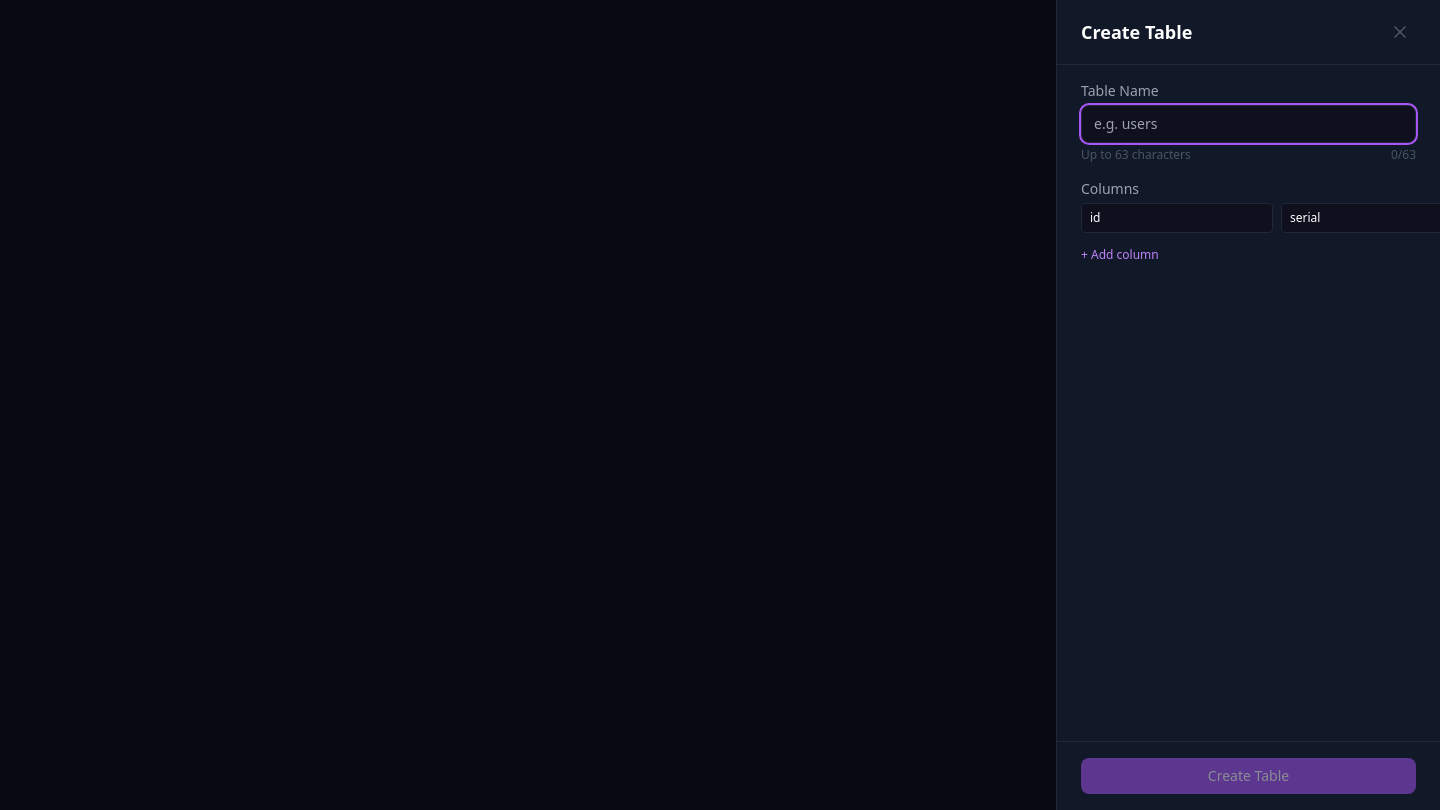
Test: CreateTablePanel columns › the server's reason is shown in the panel, not a status code
Type "notes" into the field with test id "table-name-input" at (1248, 124), box 1081,105 -> 1416,143
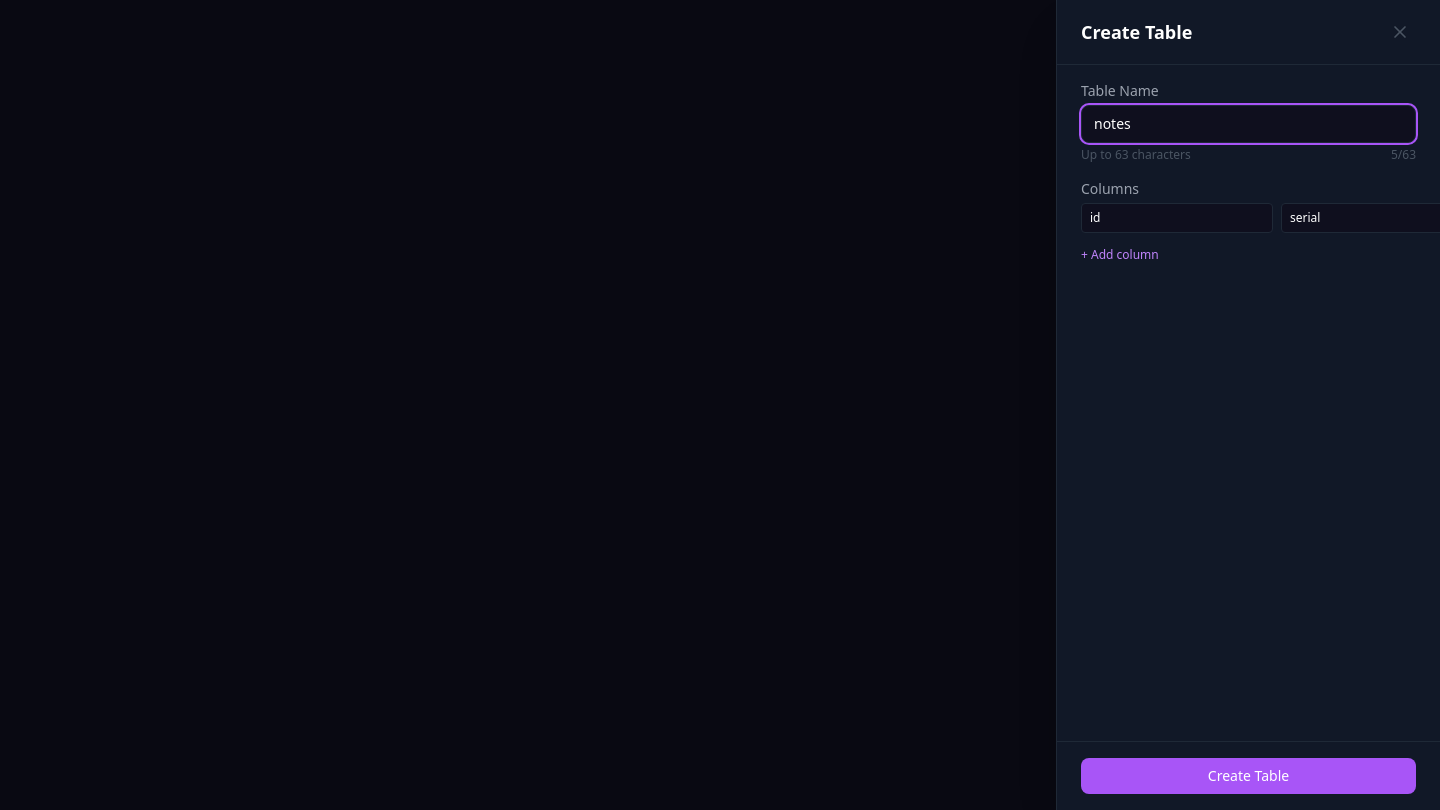
Click the button with test id "create-table-submit" at (1248, 776), box 1081,758 -> 1416,794
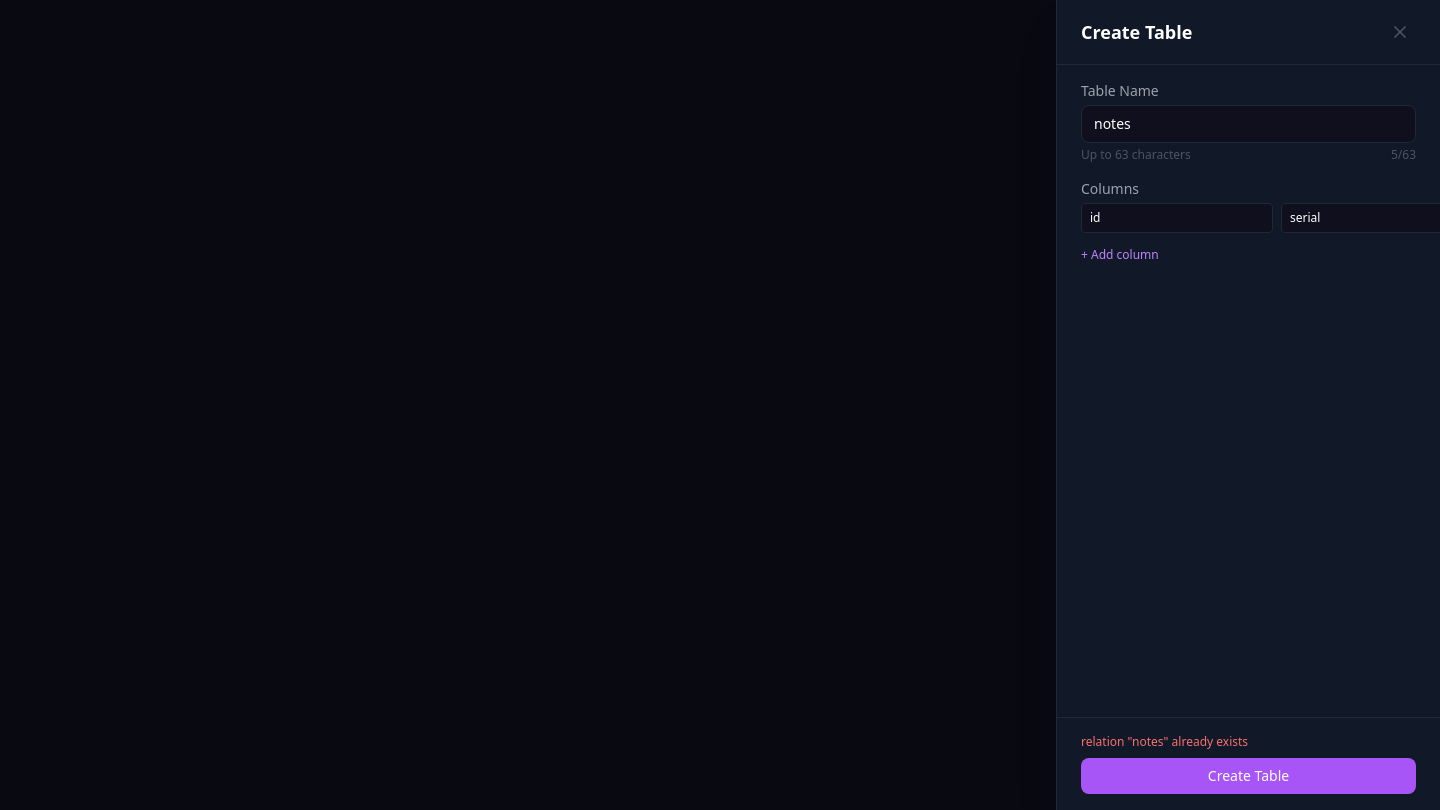
Result: the message with test id "create-table-error" reads "relation \"notes\" already exists" at 1081,733 -> 1248,750
